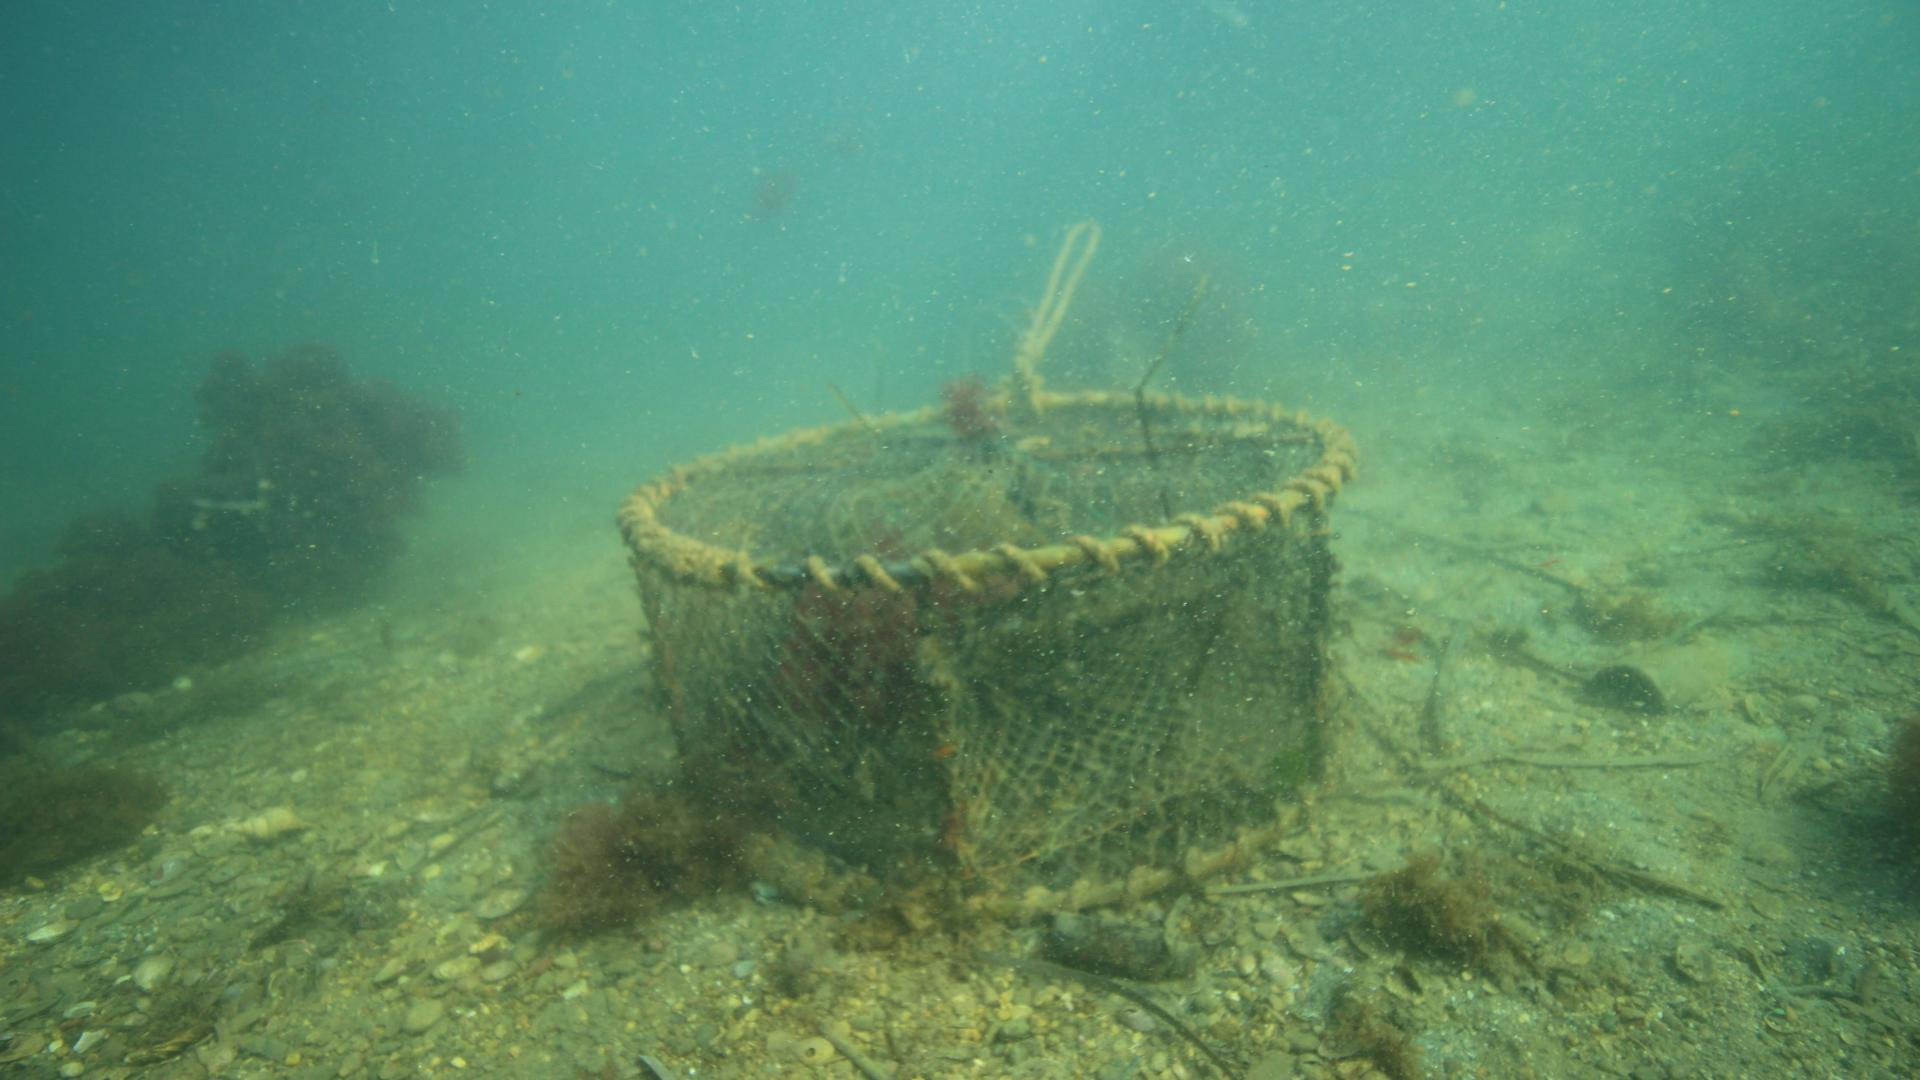circular fish trap: (616, 388, 1353, 923)
rope: (1000, 218, 1108, 353)
